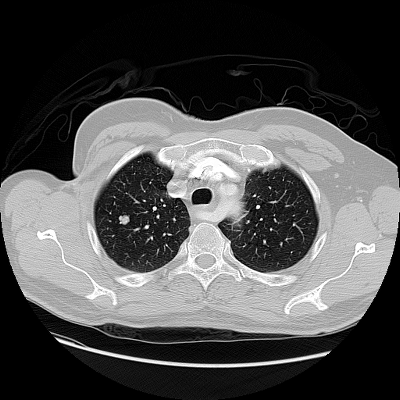nodule: (119, 215, 129, 225)
